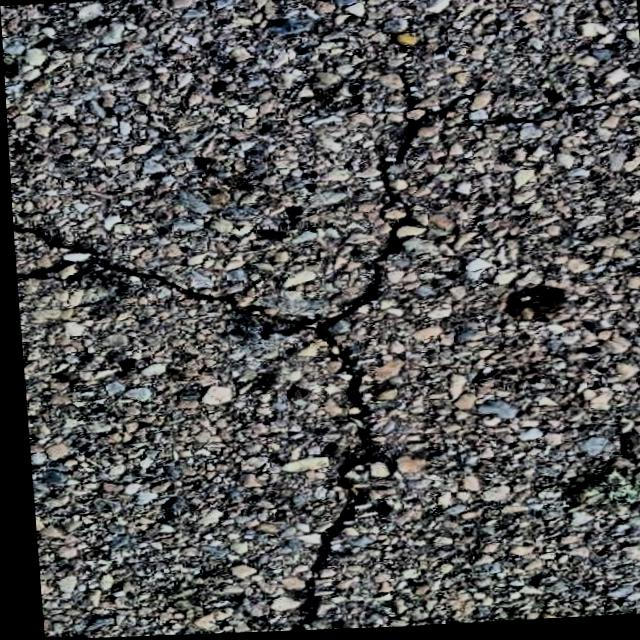cracks: (292, 110, 446, 631), (13, 223, 234, 301), (263, 303, 356, 338), (245, 299, 323, 316)
